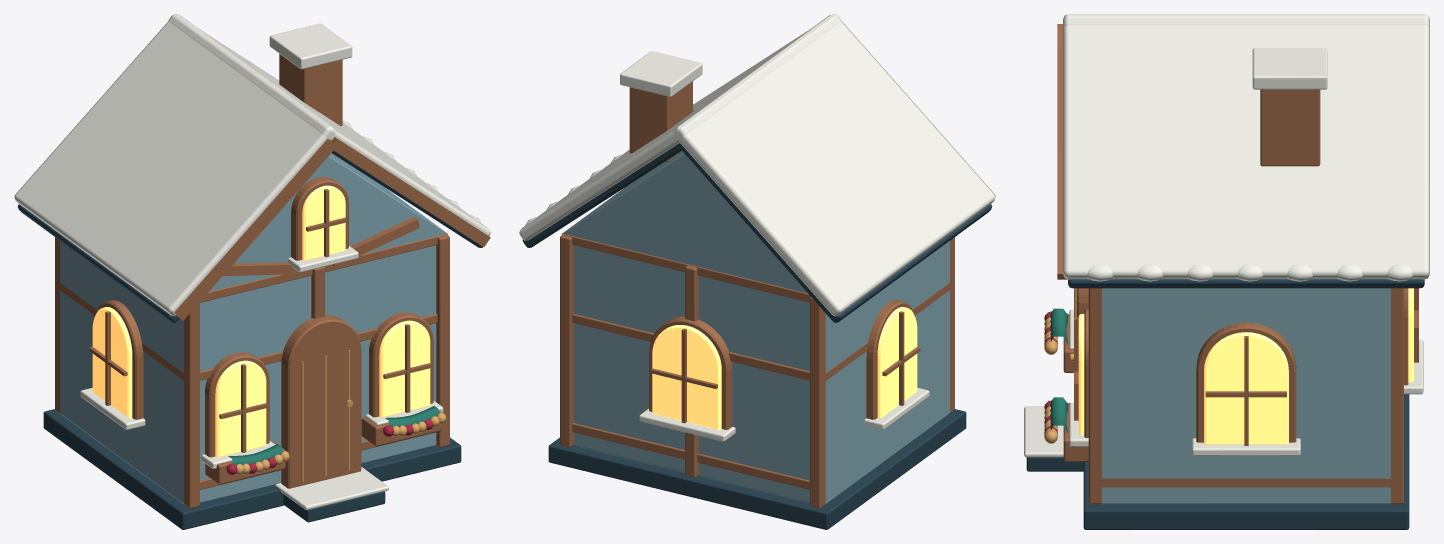
The model's file is chalet_blue.glb.
The picture shows the model from 3 angles, left to right: view 1: azimuth 30°, elevation 25°; view 2: azimuth 150°, elevation 25°; view 3: azimuth 270°, elevation 25°; orthographic projection. The views are drawn at different scales.
Parts seen in each view (by area): view 1: timber-chalet; view 2: timber-chalet; view 3: timber-chalet.
Part boxes in pixels (x1,y1,x2,y2): timber-chalet: (14, 14, 490, 529); timber-chalet: (519, 14, 995, 529); timber-chalet: (1024, 14, 1429, 529).
Bounding box in the file's own units: 3.5 × 3.85 × 3.24.
